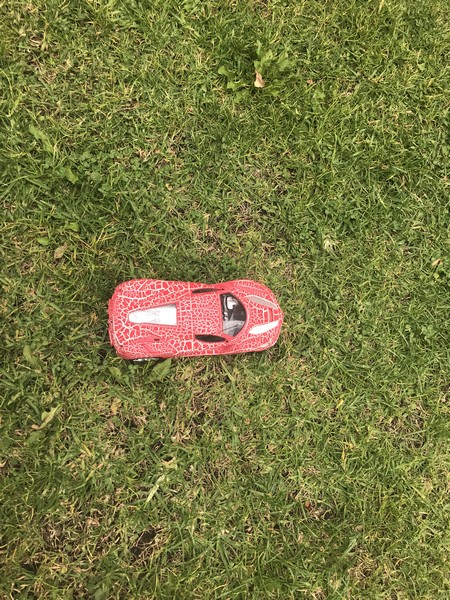RC: (107, 275, 286, 364)
